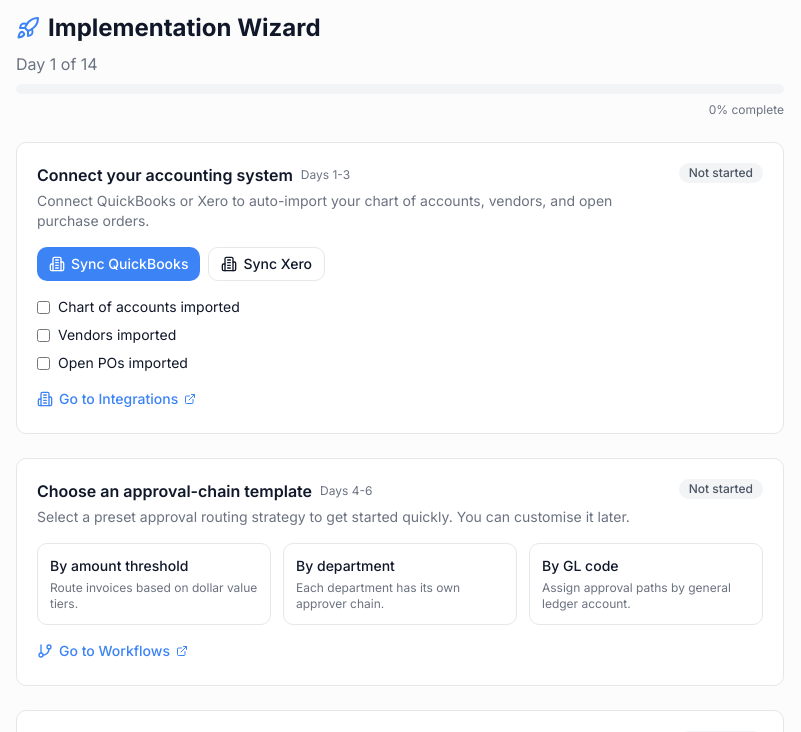
Test case: GettingStartedPage › runs backend ERP sync and updates progress
The width and height of the screenshot is (801, 732).
Click the button "Sync QuickBooks" at (119, 264), box [37,247,200,281]
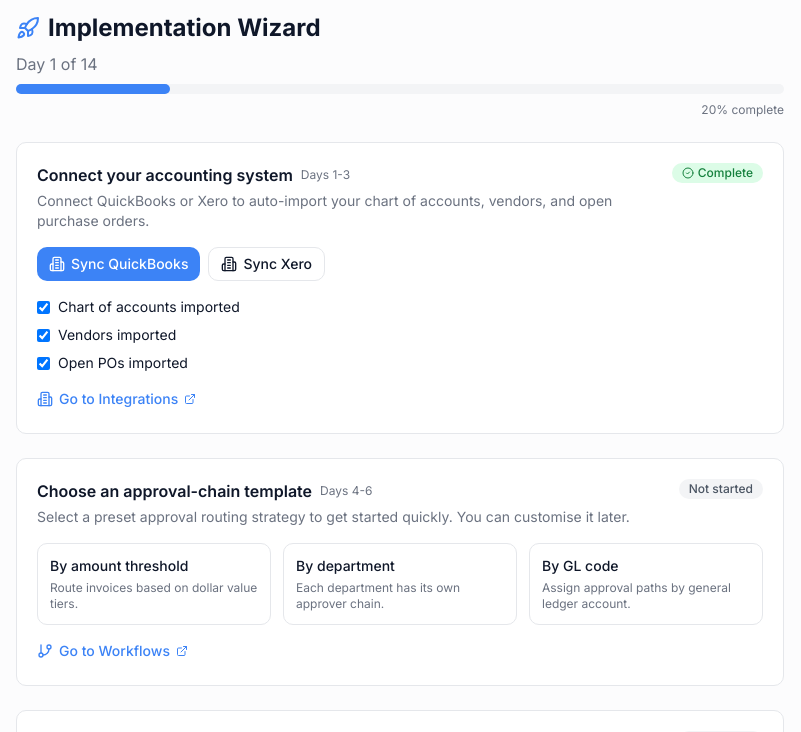
Expected: the text with test id "progress-percent" reads "20% complete", [701,102,784,117]
